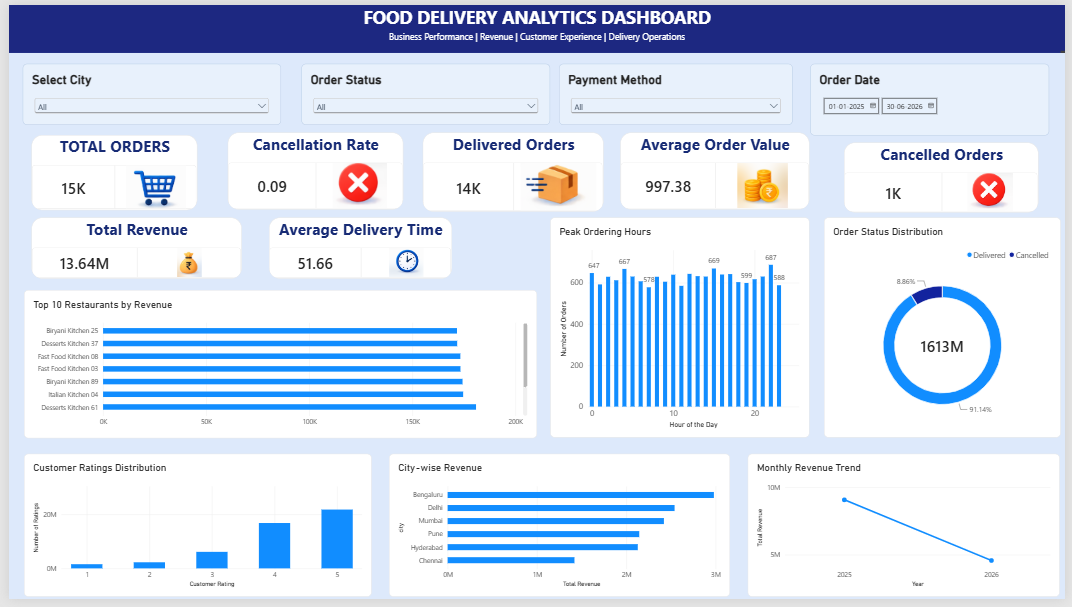

Layout of this report page (visuals, bound fields, positions):
{"tool":"powerbi","page":{"name":"Page 1","canvas":[1920,1080],"ordinal":0},"visuals":[{"type":"cardVisual","title":"TOTAL  ORDERS","fields":{"Data":["orders_clean.Total Orders"]},"box":[40.4,236.5,301.9,136.5],"z":0},{"type":"cardVisual","title":"Delivered Orders","fields":{"Data":["orders_clean.Delivered Orders"]},"box":[751.9,232.7,328.8,144.2],"z":1000},{"type":"cardVisual","title":"Cancelled Orders","fields":{"Data":["orders_clean.Cancelled Orders"]},"box":[1517.3,250,353.8,126.9],"z":2000},{"type":"cardVisual","title":"Total Revenue","fields":{"Data":["orders_clean.Total Revenue"]},"box":[40.4,386.5,382.7,111.5],"z":3000},{"type":"cardVisual","title":"Average Order Value","fields":{"Data":["orders_clean.Average Order Value"]},"box":[1111.5,232.7,344.2,140.4],"z":4000},{"type":"cardVisual","title":"Cancellation Rate","fields":{"Data":["orders_clean.Cancellation Rate"]},"box":[398.1,232.7,319.2,140.4],"z":5000},{"type":"cardVisual","title":"Average Delivery Time","fields":{"Data":["orders_clean.Average Delivery Time"]},"box":[473.1,386.5,332.7,111.5],"z":6000},{"type":"donutChart","title":"Order Status Distribution","fields":{"Category":["orders_clean.order_status"],"Y":["Sum(orders_clean.order_id)"]},"box":[1480.8,386.5,430.8,400],"z":7000},{"type":"clusteredBarChart","title":"City-wise Revenue","fields":{"Category":["restaurants_clean.city"],"Y":["orders_clean.Total Revenue"]},"box":[690,816,620,260],"z":8000},{"type":"lineChart","title":"Monthly Revenue Trend","fields":{"Category":["orders_clean.order_datetime.Variation.Date Hierarchy.Year","orders_clean.order_datetime.Variation.Date Hierarchy.Month"],"Y":["orders_clean.Total Revenue"]},"box":[1344.2,815.4,567.3,259.6],"z":9000},{"type":"clusteredBarChart","title":"Top 10 Restaurants by Revenue","fields":{"Category":["restaurants_clean.restaurant_name"],"Y":["orders_clean.Total Revenue"]},"box":[26.9,517.3,932.7,269.2],"z":10000},{"type":"clusteredColumnChart","title":"Peak Ordering Hours","fields":{"Category":["orders_clean.Order Hour"],"Y":["orders_clean.Total Orders"]},"box":[984.6,386.5,471.2,400],"z":11000},{"type":"slicer","title":"Select City","fields":{"Values":["restaurants_clean.city"]},"box":[25,105.8,469.2,111.5],"z":12000},{"type":"slicer","title":"Order Status","fields":{"Values":["orders_clean.order_status"]},"box":[532.7,105.8,451.9,111.5],"z":13000},{"type":"slicer","title":"Payment Method","fields":{"Values":["orders_clean.payment_method"]},"box":[1000,105.8,425,111.5],"z":14000},{"type":"slicer","title":"Order Date","fields":{"Values":["orders_clean.order_datetime"]},"box":[1455.8,105.8,434.6,130.8],"z":15000},{"type":"clusteredColumnChart","title":"Customer Ratings Distribution","fields":{"Category":["ratings_clean.rating"],"Y":["Sum(ratings_clean.rating_id)"]},"box":[26.9,815.4,632,260],"z":16000},{"type":"textbox","title":"FOOD DELIVERY ANALYTICS DASHBOARD","box":[0,0,1920,87.5],"z":17000}]}

Visuals, with their boxes in screenshot pixels (x1, y1, x2, y2), scaled from the page's 1920x1080 canvas onto the 1072x607 screenshot:
"TOTAL  ORDERS" cardVisual: locate(23, 133, 191, 210)
"Delivered Orders" cardVisual: locate(420, 131, 603, 212)
"Cancelled Orders" cardVisual: locate(847, 141, 1045, 212)
"Total Revenue" cardVisual: locate(23, 217, 236, 280)
"Average Order Value" cardVisual: locate(621, 131, 813, 210)
"Cancellation Rate" cardVisual: locate(222, 131, 400, 210)
"Average Delivery Time" cardVisual: locate(264, 217, 450, 280)
"Order Status Distribution" donutChart: locate(827, 217, 1067, 442)
"City-wise Revenue" clusteredBarChart: locate(385, 459, 731, 605)
"Monthly Revenue Trend" lineChart: locate(751, 458, 1067, 604)
"Top 10 Restaurants by Revenue" clusteredBarChart: locate(15, 291, 536, 442)
"Peak Ordering Hours" clusteredColumnChart: locate(550, 217, 813, 442)
"Select City" slicer: locate(14, 59, 276, 122)
"Order Status" slicer: locate(297, 59, 550, 122)
"Payment Method" slicer: locate(558, 59, 796, 122)
"Order Date" slicer: locate(813, 59, 1055, 133)
"Customer Ratings Distribution" clusteredColumnChart: locate(15, 458, 368, 604)
"FOOD DELIVERY ANALYTICS DASHBOARD" textbox: locate(0, 0, 1071, 49)
